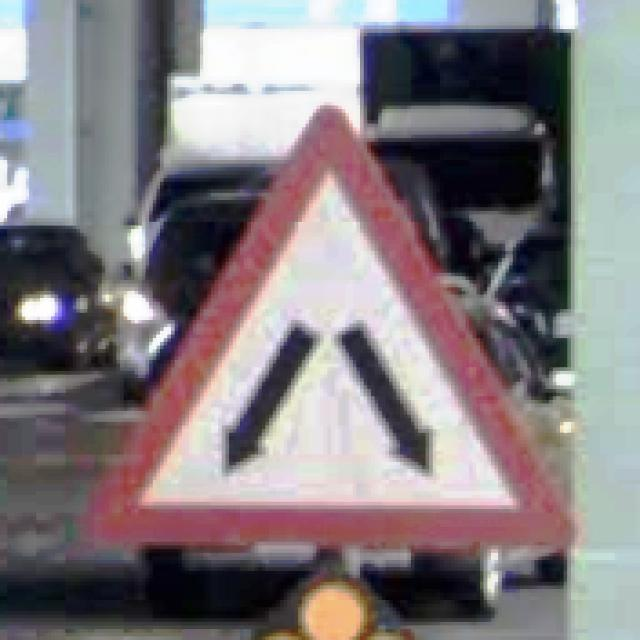diverge: (95, 105, 571, 545)
